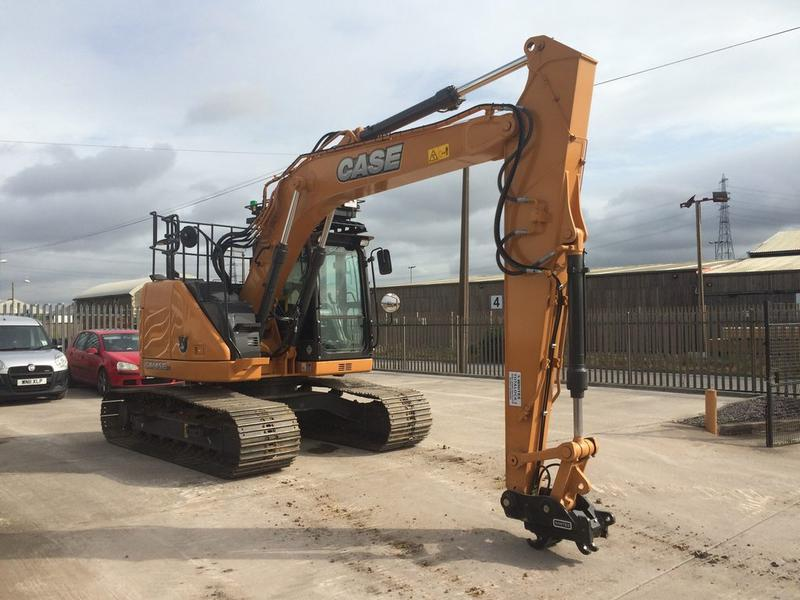shovel: (98, 31, 641, 563)
